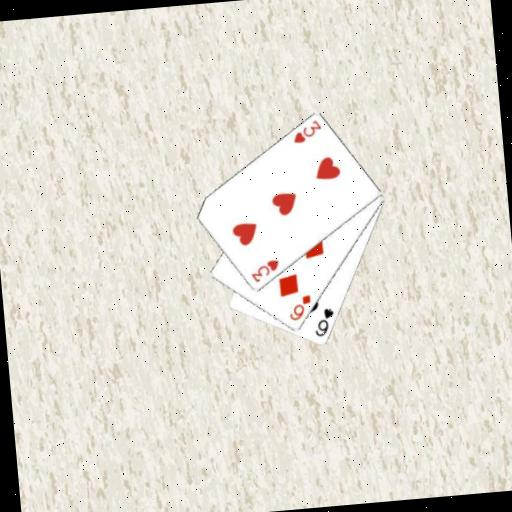3H: (247, 257, 283, 286), (289, 117, 325, 146)
6D: (285, 292, 314, 323)
6S: (310, 305, 338, 339)
